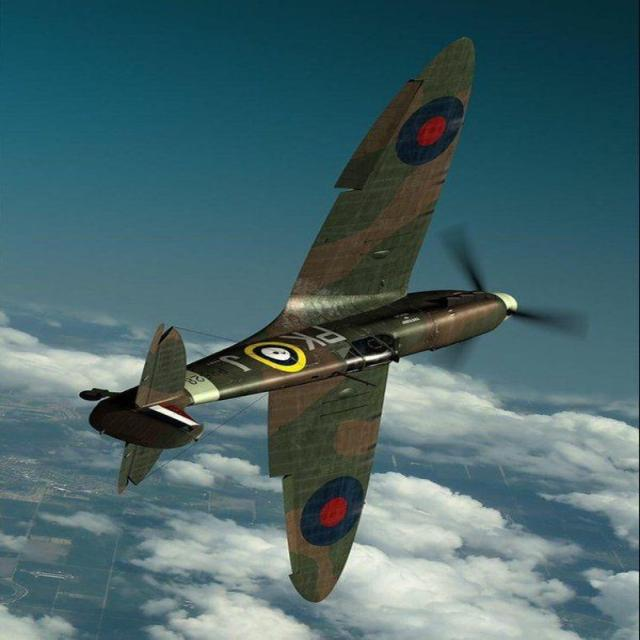iha: (76, 34, 590, 605)
